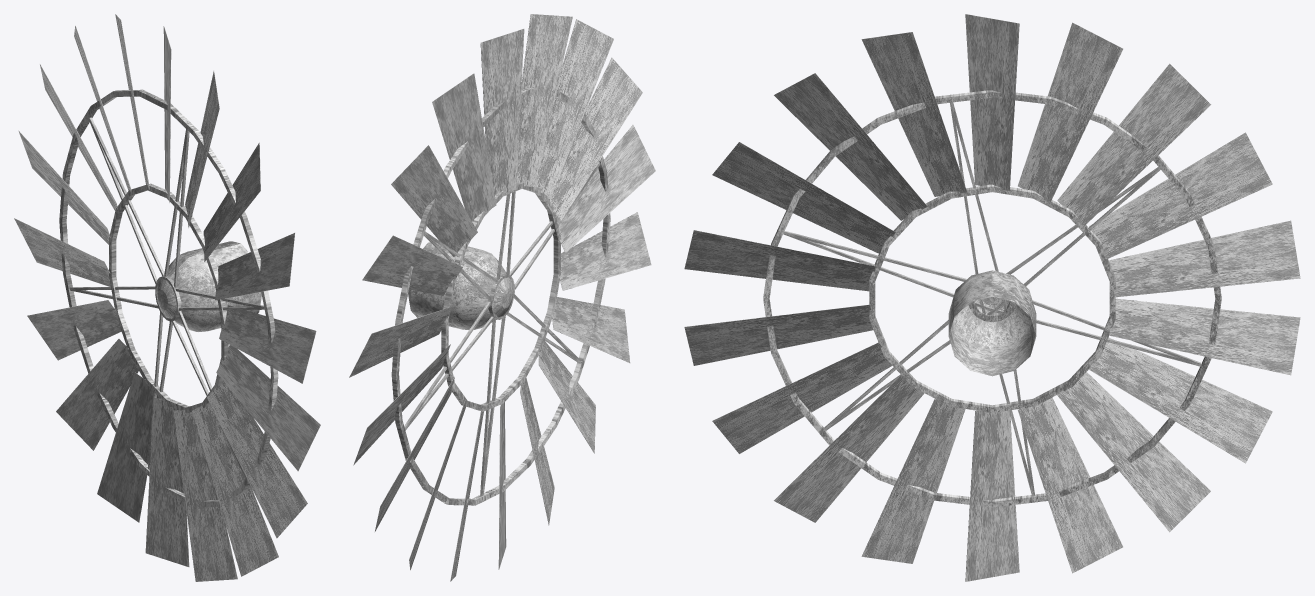
Rendered from helice_molino.fbx.
The picture shows the model from 3 angles, left to right: view 1: azimuth 30°, elevation 25°; view 2: azimuth 150°, elevation 25°; view 3: azimuth 270°, elevation 25°; orthographic projection. The views are drawn at different scales.
Visible parts, largest first — view 1: Object001; view 2: Object001; view 3: Object001.
Part boxes in pixels (bbox=[...]): Object001: bbox=[14, 14, 320, 581]; Object001: bbox=[349, 14, 655, 581]; Object001: bbox=[684, 14, 1300, 581].
Bounding box in the file's own units: 0.55 × 3.3 × 3.3.
Materials: 1 (1 with a texture image).
